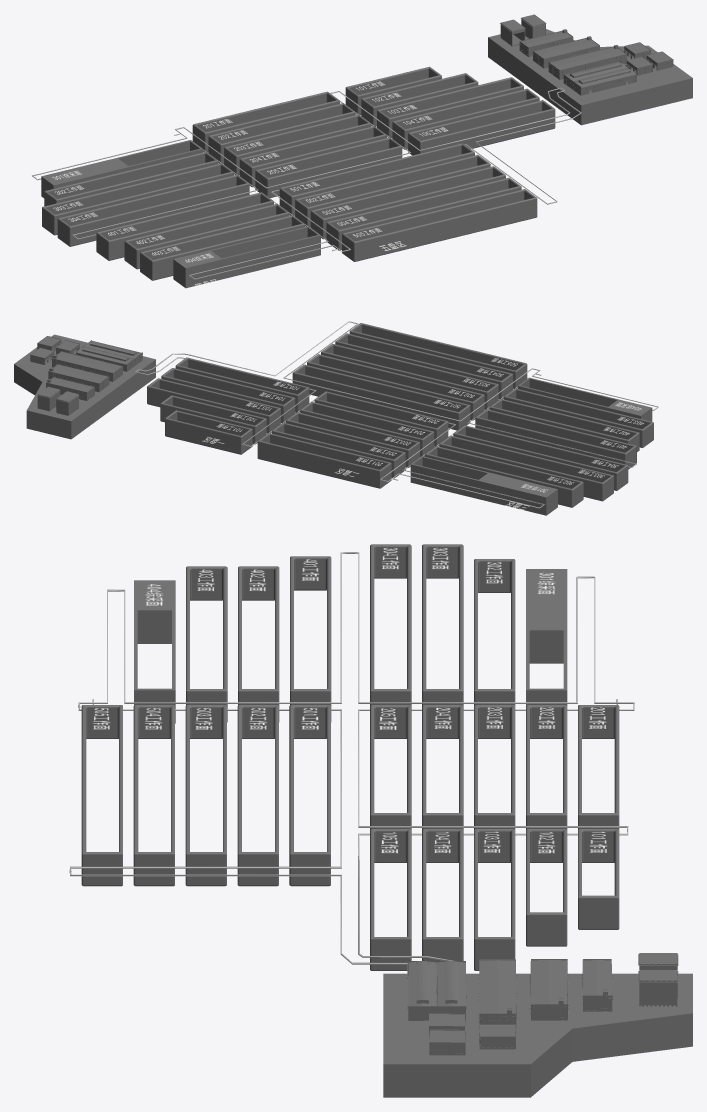
The picture shows the model from 3 angles, top to bottom: view 1: azimuth 30°, elevation 25°; view 2: azimuth 150°, elevation 25°; view 3: azimuth 270°, elevation 25°; orthographic projection. The views are drawn at different scales.
Visible parts, largest first — view 1: 矿道, 地面建筑, SShape07, 矿道.002, 路, 矿道.001, 平面.001, 仓库2, 仓库1; view 2: 矿道, 地面建筑, SShape07, 矿道.001, 路, 平面.001, 矿道.002, 仓库2, 仓库1; view 3: 矿道, 地面建筑, SShape07, 路, 平面.001, 矿道.001, 矿道.002, 仓库1.
Part boxes in pixels (x1,y1,x2,y2): 矿道: (42,66,555,280); 地面建筑: (488,29,692,125); SShape07: (519,29,673,95); 矿道.002: (173,226,320,288); 路: (32,87,581,279); 矿道.001: (41,140,203,197); 平面.001: (24,67,448,288); 仓库2: (500,19,525,46); 仓库1: (520,14,546,38); 矿道: (147,323,653,507); 地面建筑: (14,334,155,439); SShape07: (30,336,142,400); 矿道.001: (410,456,557,515); 路: (135,321,658,508); 平面.001: (202,343,684,509); 矿道.002: (517,377,652,421); 仓库2: (56,391,79,415); 仓库1: (37,386,60,411); 矿道: (81,544,619,970); 地面建筑: (383,973,692,1097); SShape07: (406,959,613,1055); 路: (69,552,634,964); 平面.001: (23,548,674,853); 矿道.001: (526,569,567,705); 矿道.002: (134,580,175,723); 仓库1: (638,970,678,1006).
Size of the model in its own units: 72.98 by 4.01 by 41.11.
3 materials, 1 textured.
